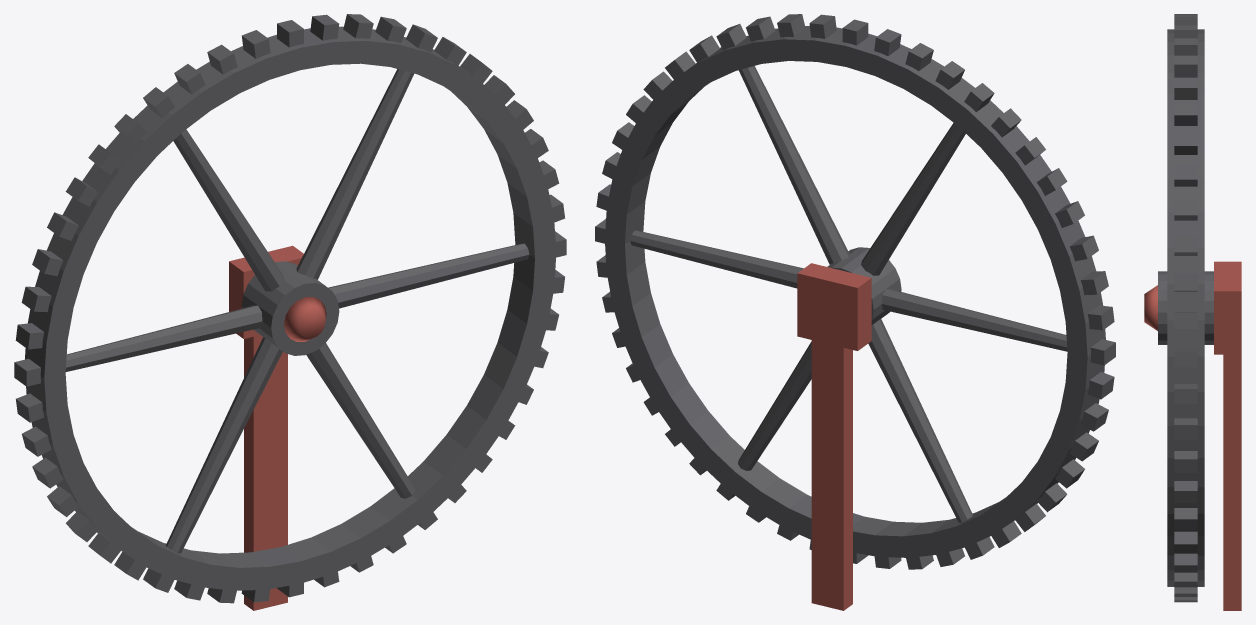
The model's file is factory_wheel.glb.
The picture shows the model from 3 angles, left to right: view 1: azimuth 30°, elevation 25°; view 2: azimuth 150°, elevation 25°; view 3: azimuth 270°, elevation 25°; orthographic projection. The views are drawn at different scales.
Visible parts, largest first — view 1: wheel_iron, wheel_bracket, wheel_hub_cap; view 2: wheel_iron, wheel_bracket; view 3: wheel_iron, wheel_bracket, wheel_hub_cap.
Part boxes in pixels (x1,y1,x2,y2): wheel_iron: (14,14,566,603); wheel_bracket: (229,245,303,610); wheel_hub_cap: (284,297,326,341); wheel_iron: (595,14,1115,569); wheel_bracket: (797,263,871,610); wheel_iron: (1158,14,1213,602); wheel_bracket: (1214,261,1241,610); wheel_hub_cap: (1144,285,1157,330).
Bounding box in the file's own units: 2.53 × 2.66 × 0.42.
